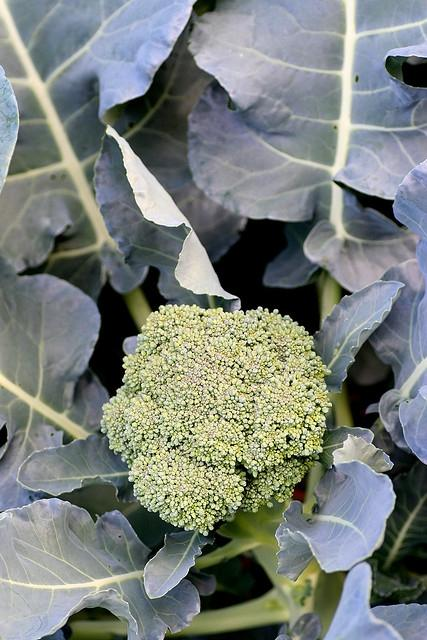broccoli: (100, 304, 333, 536)
